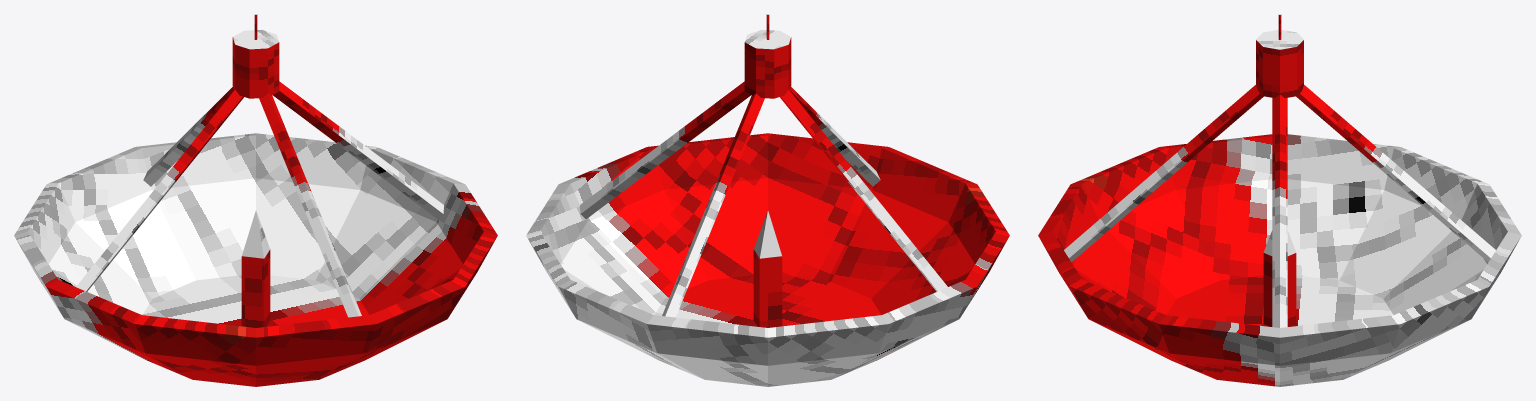
File: kamesuta_antenna.obj
3 views of the same model, side by side, from view 1: azimuth 30°, elevation 25°; view 2: azimuth 150°, elevation 25°; view 3: azimuth 270°, elevation 25° (orthographic).
Visible parts, largest first — view 1: Cylinder.001, Cylinder.005_Cylinder.004, Cylinder.006_Cylinder.004, Cylinder.004, Cylinder.008_Cylinder.005, Cylinder.003, Cylinder.007_Cylinder.004; view 2: Cylinder.001, Cylinder.007_Cylinder.004, Cylinder.006_Cylinder.004, Cylinder.004, Cylinder.008_Cylinder.005, Cylinder.003, Cylinder.005_Cylinder.004; view 3: Cylinder.001, Cylinder.005_Cylinder.004, Cylinder.007_Cylinder.004, Cylinder.006_Cylinder.004, Cylinder.008_Cylinder.005, Cylinder.003.
Boxes of the visible parts, x1,y1,x2,y2 form: Cylinder.001: (14, 133, 497, 386); Cylinder.005_Cylinder.004: (259, 93, 361, 317); Cylinder.006_Cylinder.004: (273, 81, 443, 219); Cylinder.004: (76, 90, 243, 291); Cylinder.008_Cylinder.005: (232, 30, 279, 98); Cylinder.003: (241, 210, 270, 327); Cylinder.007_Cylinder.004: (143, 87, 233, 186); Cylinder.001: (526, 133, 1009, 386); Cylinder.007_Cylinder.004: (662, 93, 764, 317); Cylinder.006_Cylinder.004: (580, 81, 750, 219); Cylinder.004: (780, 90, 947, 291); Cylinder.008_Cylinder.005: (744, 30, 791, 98); Cylinder.003: (753, 210, 782, 327); Cylinder.005_Cylinder.004: (790, 87, 880, 186); Cylinder.001: (1038, 134, 1521, 386); Cylinder.005_Cylinder.004: (1064, 85, 1263, 262); Cylinder.007_Cylinder.004: (1296, 85, 1495, 262); Cylinder.006_Cylinder.004: (1272, 95, 1287, 327); Cylinder.008_Cylinder.005: (1256, 30, 1303, 98); Cylinder.003: (1263, 230, 1296, 326).
Bounding box in the file's own units: 3.82 × 3.1 × 3.82.
